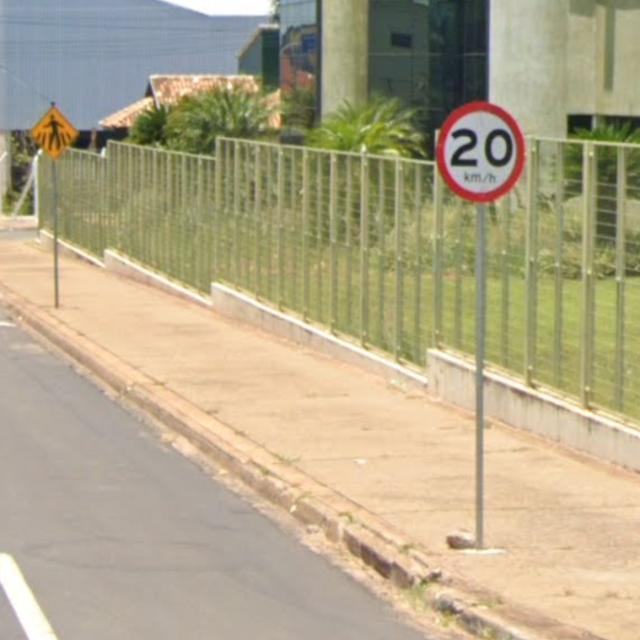pedestrian crossing: (22, 103, 82, 165)
speed limit: (428, 86, 536, 209)
